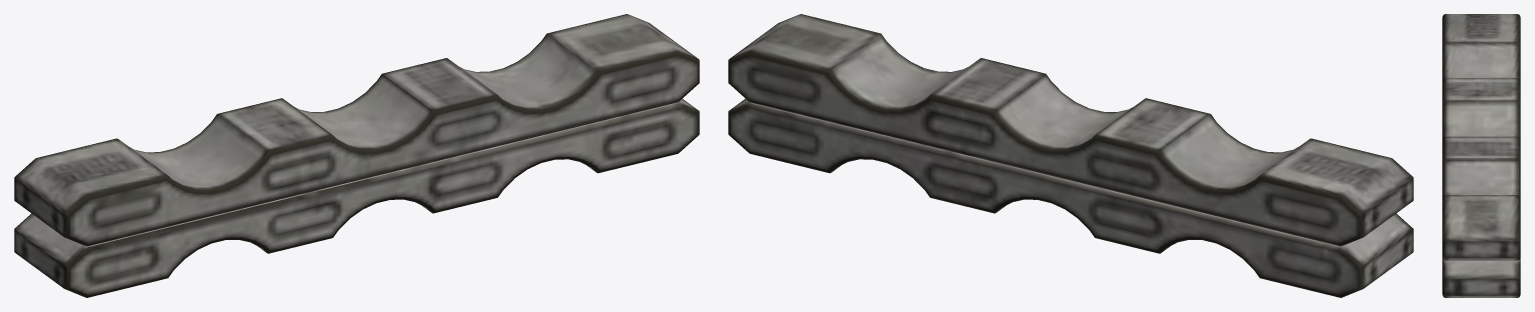
Rendered from pipe-saddle-rail--2.gltf.
3 renders of one model, left to right at view 1: azimuth 30°, elevation 25°; view 2: azimuth 150°, elevation 25°; view 3: azimuth 270°, elevation 25°, orthographic. The views are drawn at different scales.
Visible parts, largest first — view 1: prop; view 2: prop; view 3: prop.
Boxes of the visible parts, bbox=[...] form: prop: bbox=[14, 14, 699, 297]; prop: bbox=[728, 14, 1413, 297]; prop: bbox=[1442, 14, 1520, 297].
Size of the model in its own units: 0.963 by 0.1493 by 0.1413.
1 material, 1 textured.
